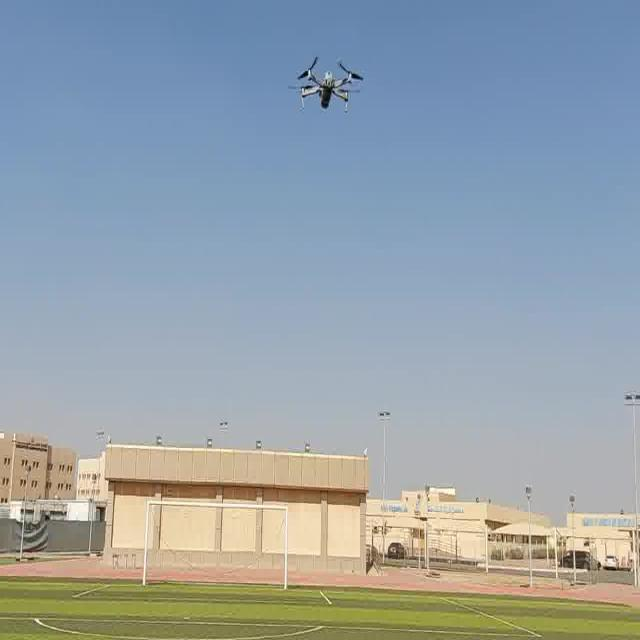drone: (293, 50, 371, 119)
